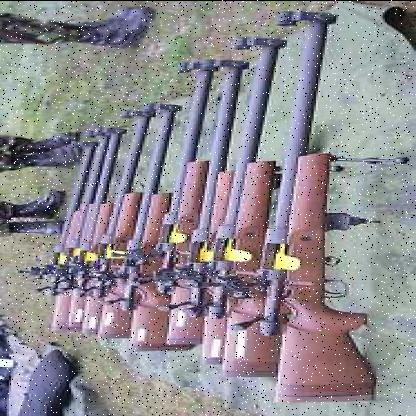rifle: (247, 2, 407, 409)
